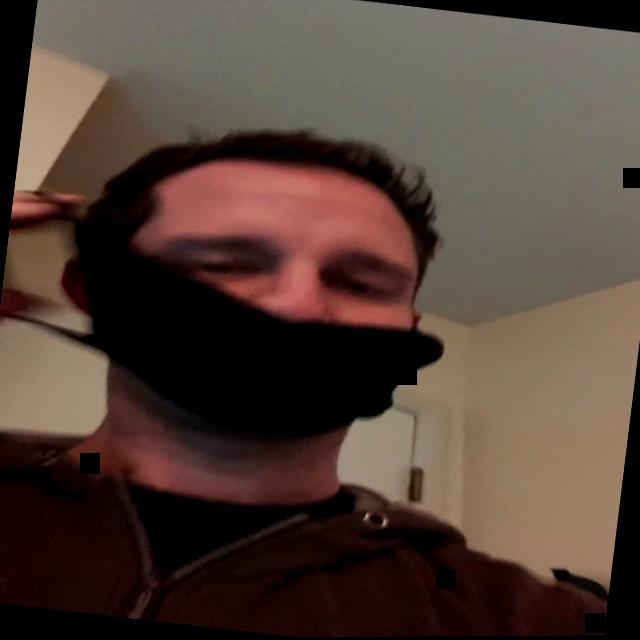Mask: (39, 144, 454, 481)
